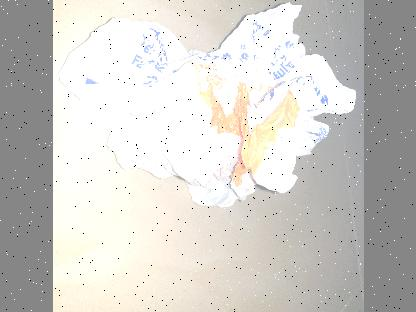Others: (58, 2, 358, 209)
